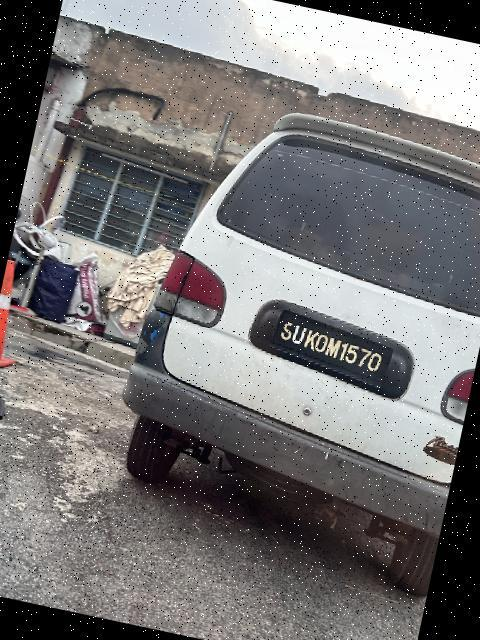License_Plate: (266, 305, 401, 392)
SUKOM1570: (266, 305, 401, 392)
van: (89, 76, 480, 599)
